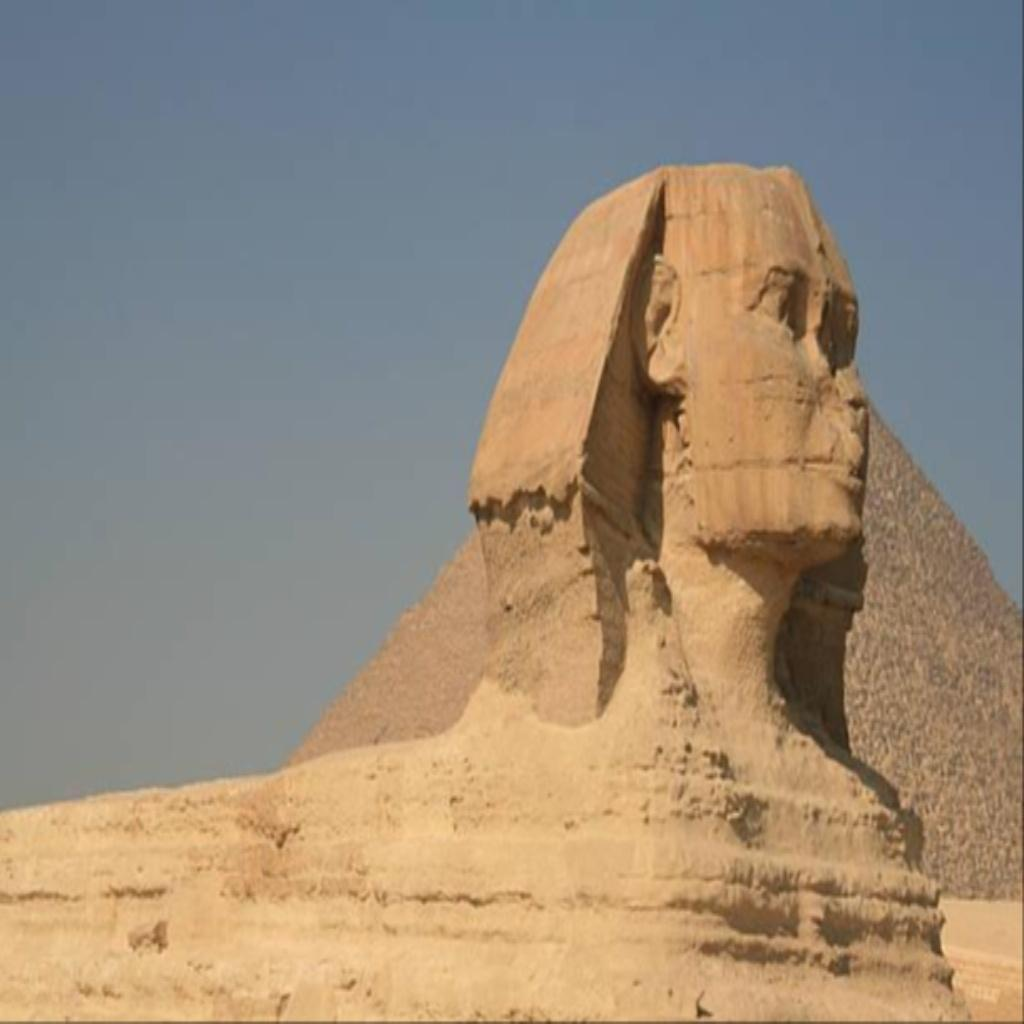Sphinx: (442, 166, 882, 720)
